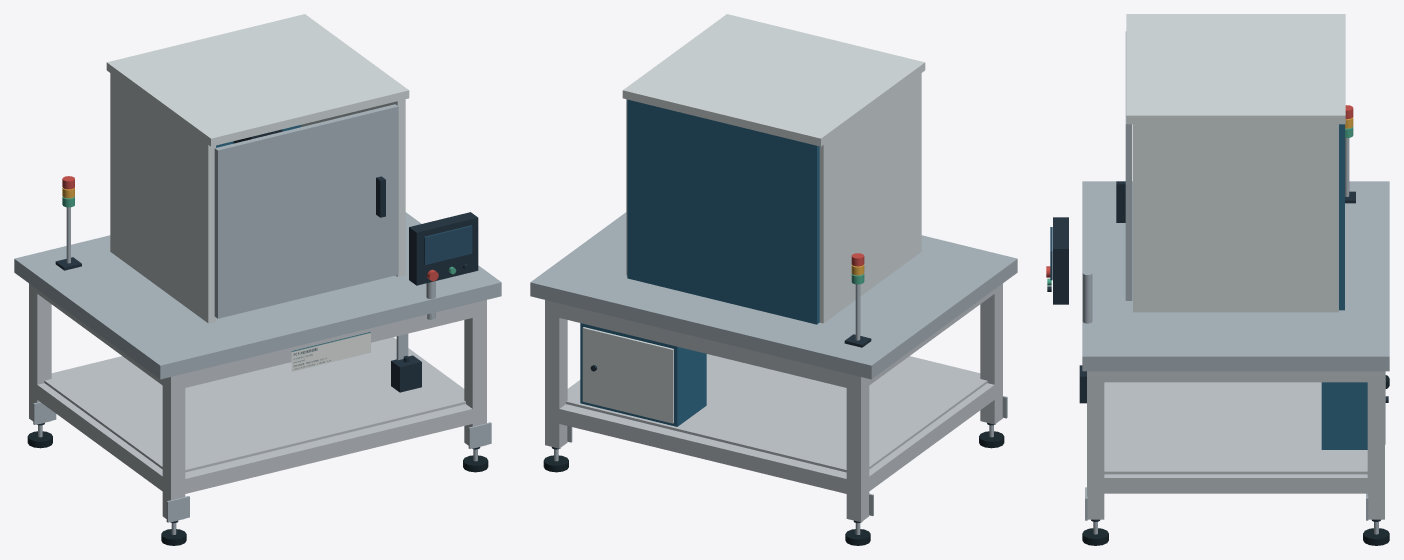
File: pcb-xray-cell.glb
3 renders of one model, left to right at view 1: azimuth 30°, elevation 25°; view 2: azimuth 150°, elevation 25°; view 3: azimuth 270°, elevation 25°, orthographic. The views are drawn at different scales.
Parts seen in each view (by area): view 1: DoorFrame_52, ClosedMachineBed_28, LowerShelf_29, ClosedRoof_51, EnclosureSide_48, SlottedExtrusion_22, SlottedExtrusion_23, SlottedExtrusion_8, SlottedExtrusion_24, ConsoleBack_34, SlottedExtrusion_18, SlottedExtrusion_3 (+5 smaller); view 2: ClosedBack_50, ClosedMachineBed_28, ClosedRoof_51, LowerShelf_29, EnclosureSide_48, BackDoor_31, SlottedExtrusion_20, SlottedExtrusion_21, SlottedExtrusion_3, Cabinet_30, SlottedExtrusion_13, SlottedExtrusion_24 (+2 smaller); view 3: EnclosureSide_49, ClosedMachineBed_28, ClosedRoof_51, LowerShelf_29, SlottedExtrusion_26, SlottedExtrusion_27, Cabinet_30, SlottedExtrusion_18, SlottedExtrusion_13, DoorFrame_52, ConsoleBack_34, ClosedBack_50 (+2 smaller).
Boxes of the visible parts, x1,y1,x2,y2 form: DoorFrame_52: (214,104,398,318); ClosedMachineBed_28: (14,212,501,379); LowerShelf_29: (44,338,465,472); ClosedRoof_51: (106,14,409,146); EnclosureSide_48: (110,73,215,323); SlottedExtrusion_22: (178,404,476,495); SlottedExtrusion_23: (178,303,472,388); SlottedExtrusion_8: (162,373,185,522); SlottedExtrusion_24: (33,383,166,493); ConsoleBack_34: (409,212,478,285); SlottedExtrusion_18: (464,300,486,448); SlottedExtrusion_3: (29,283,51,424); ClosedBack_50: (627,99,819,324); ClosedMachineBed_28: (530,212,1017,379); ClosedRoof_51: (622,14,925,146); LowerShelf_29: (566,354,987,472); EnclosureSide_48: (819,73,921,323); BackDoor_31: (582,327,673,423); SlottedExtrusion_20: (553,404,853,494); SlottedExtrusion_21: (559,303,853,387); SlottedExtrusion_3: (846,373,869,522); Cabinet_30: (580,323,706,426); SlottedExtrusion_13: (545,300,567,448); SlottedExtrusion_24: (865,383,994,493); EnclosureSide_49: (1133,124,1338,312); ClosedMachineBed_28: (1082,181,1389,371); ClosedRoof_51: (1126,14,1345,124); LowerShelf_29: (1104,382,1367,474); SlottedExtrusion_26: (1095,474,1376,493); SlottedExtrusion_27: (1095,371,1376,382); Cabinet_30: (1321,382,1367,449); SlottedExtrusion_18: (1087,371,1104,519); SlottedExtrusion_13: (1367,371,1384,519); DoorFrame_52: (1125,31,1132,300); ConsoleBack_34: (1053,217,1068,304); ClosedBack_50: (1339,124,1344,310).
Bounding box in the file's own units: 1.55 × 1.64 × 1.29.
11 materials, 1 textured.
